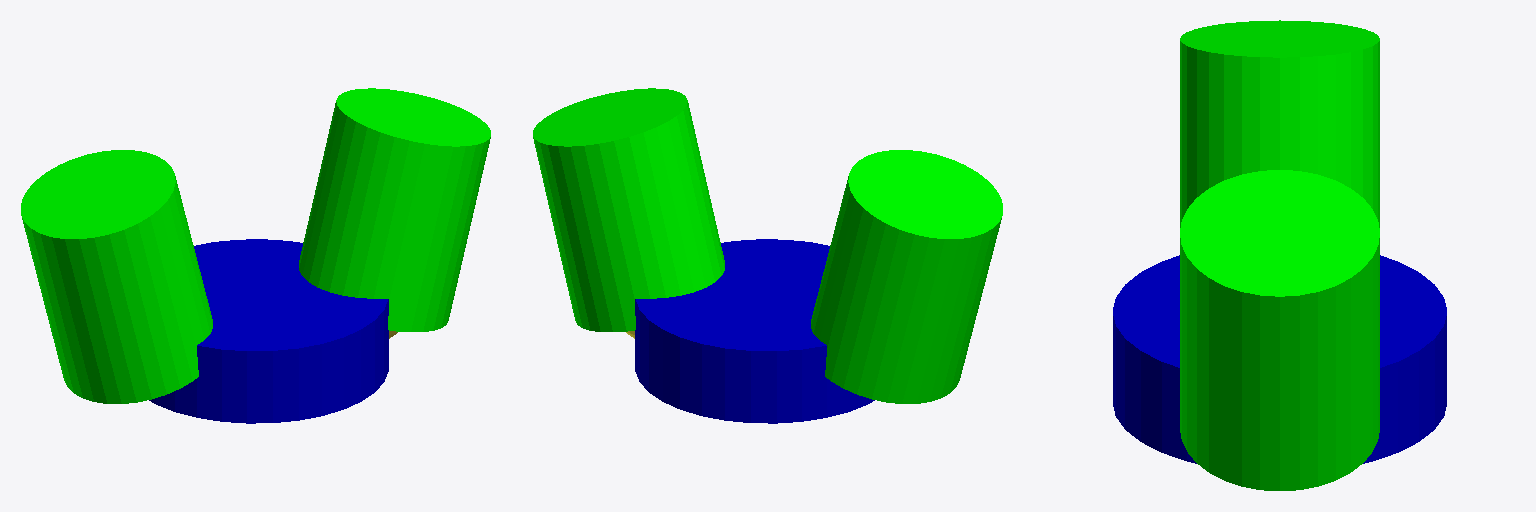
robot.urdf — gripper_2f_1j:
<?xml version='1.0' encoding='UTF-8'?>
<robot name="gripper_2f_1j">
  <link name="palm">
    <inertial>
      <origin xyz="0.0 0.0 0.0" rpy="0.0 -0.0 0.0"/>
      <mass value="1.0"/>
      <inertia ixx="1.0" ixy="0.0" ixz="0.0" iyy="1.0" iyz="0.0" izz="1.0"/>
    </inertial>
    <visual>
      <geometry>
        <cylinder radius="0.05" length="0.03"/>
      </geometry>
      <material name="blue"/>
      <origin xyz="0.0 0.0 0.0" rpy="0.0 -0.0 0.0"/>
    </visual>
    <collision>
      <geometry>
        <cylinder radius="0.05" length="0.03"/>
      </geometry>
      <origin xyz="0.0 0.0 0.0" rpy="0.0 0.0 0.0"/>
    </collision>
  </link>
  <link name="f11">
    <inertial>
      <origin xyz="0.0 0.0 0.0" rpy="0.0 -0.0 0.0"/>
      <mass value="1.0"/>
      <inertia ixx="1.0" ixy="0.0" ixz="0.0" iyy="1.0" iyz="0.0" izz="1.0"/>
    </inertial>
    <visual>
      <geometry>
        <cylinder radius="0.02993307126128701" length="0.07514293209327846"/>
      </geometry>
      <material name="green"/>
      <origin xyz="0.0 0.0 0.03757146604663923" rpy="0.0 -0.0 0.0"/>
    </visual>
    <collision>
      <geometry>
        <cylinder radius="0.02993307126128701" length="0.07514293209327846"/>
      </geometry>
      <origin xyz="0.0 0.0 0.05" rpy="0.0 0.0 0.0"/>
    </collision>
  </link>
  <link name="f21">
    <inertial>
      <origin xyz="0.0 0.0 0.0" rpy="0.0 -0.0 0.0"/>
      <mass value="1.0"/>
      <inertia ixx="1.0" ixy="0.0" ixz="0.0" iyy="1.0" iyz="0.0" izz="1.0"/>
    </inertial>
    <visual>
      <geometry>
        <cylinder radius="0.02993307126128701" length="0.07514293209327846"/>
      </geometry>
      <material name="green"/>
      <origin xyz="0.0 0.0 0.03757146604663923" rpy="0.0 -0.0 0.0"/>
    </visual>
    <collision>
      <geometry>
        <cylinder radius="0.02993307126128701" length="0.07514293209327846"/>
      </geometry>
      <origin xyz="0.0 0.0 0.05" rpy="0.0 0.0 0.0"/>
    </collision>
  </link>
  <link name="f11_base">
    <inertial>
      <origin xyz="0.0 0.0 0.0" rpy="0.0 -0.0 0.0"/>
      <mass value="1.0"/>
      <inertia ixx="1.0" ixy="0.0" ixz="0.0" iyy="1.0" iyz="0.0" izz="1.0"/>
    </inertial>
    <visual>
      <geometry>
        <sphere radius="0.015"/>
      </geometry>
      <origin xyz="0.0 0.0 0.0" rpy="0.0 -0.0 0.0"/>
    </visual>
  </link>
  <link name="f21_base">
    <inertial>
      <origin xyz="0.0 0.0 0.0" rpy="0.0 -0.0 0.0"/>
      <mass value="1.0"/>
      <inertia ixx="1.0" ixy="0.0" ixz="0.0" iyy="1.0" iyz="0.0" izz="1.0"/>
    </inertial>
    <visual>
      <geometry>
        <sphere radius="0.015"/>
      </geometry>
      <origin xyz="0.0 0.0 0.0" rpy="0.0 -0.0 0.0"/>
    </visual>
  </link>
  <joint name="f11_joint" type="revolute">
    <dynamics damping="100.0" friction="1.0"/>
    <limit effort="30.0" velocity="2.0" lower="-0.6" upper="0.25"/>
    <parent link="f11_base"/>
    <child link="f11"/>
    <axis xyz="0. 1. 0."/>
    <origin xyz="0.0 0.0 0.0" rpy="0.0 0.25 0.0"/>
  </joint>
  <joint name="f21_joint" type="revolute">
    <dynamics damping="100.0" friction="1.0"/>
    <limit effort="30.0" velocity="2.0" lower="-0.6" upper="0.25"/>
    <parent link="f21_base"/>
    <child link="f21"/>
    <axis xyz=" 0. -1.  0."/>
    <origin xyz="0.0 0.0 0.0" rpy="0.0 -0.25 0.0"/>
  </joint>
  <joint name="f11_base_joint" type="fixed">
    <parent link="palm"/>
    <child link="f11_base"/>
    <axis xyz="1. 0. 0."/>
    <origin xyz="0.05 0.0 0.0" rpy="0.0 0.0 0.0"/>
  </joint>
  <joint name="f21_base_joint" type="fixed">
    <parent link="palm"/>
    <child link="f21_base"/>
    <axis xyz="1. 0. 0."/>
    <origin xyz="-0.05 -0.0 0.0" rpy="0.0 0.0 0.0"/>
  </joint>
  <material name="blue">
    <color rgba="0.  0.  0.8 1. "/>
  </material>
  <material name="green">
    <color rgba="0. 1. 0. 1."/>
  </material>
</robot>

--- Facts derived from the render (not from the file) ---
3 views of the same robot in one strip: view 1: azimuth 30°, elevation 25°; view 2: azimuth 150°, elevation 25°; view 3: azimuth 270°, elevation 25° (orthographic).
Robot: gripper_2f_1j — 5 links, 4 joints (2 revolute, 2 fixed); root link palm; default pose: all joints at 0.
Links seen in each view (by area): view 1: f21, f11, palm; view 2: f21, f11, palm; view 3: f11, f21, palm.
Link boxes in pixels (x1,y1,x2,y2): f21: (21,150,212,403); f11: (299,88,490,331); palm: (149,239,388,423); f21: (811,150,1002,403); f11: (533,88,724,331); palm: (635,239,874,423); f11: (1180,170,1379,490); f21: (1180,20,1379,227); palm: (1113,255,1446,463).
Size in the robot's own frame: 0.1952 by 0.1 by 0.0952 metres.
Geometry: primitives only (box / cylinder / sphere), no mesh files.